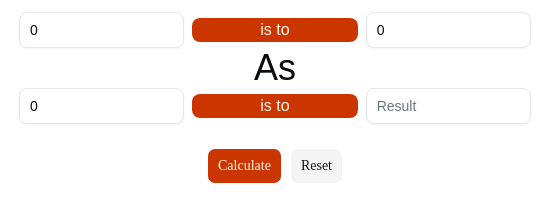
RuleOfThree › reset behavior › clears input and result values
Step 1. Replace the text in the 1st field with placeholder "Value A" with "2" → (102, 30), box [19,12,184,48]
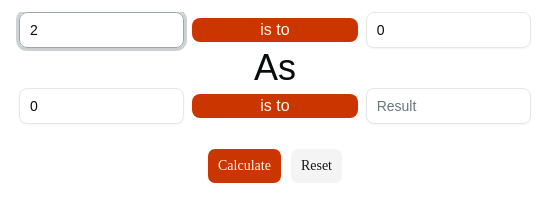
Step 2. Replace the text in the 2nd field with placeholder "Value B" with "4" → (448, 30), box [366,12,531,48]
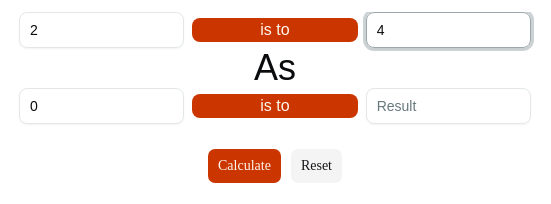
Step 3. Replace the text in the 3rd field with placeholder "Value C" with "3" → (102, 106), box [19,88,184,124]
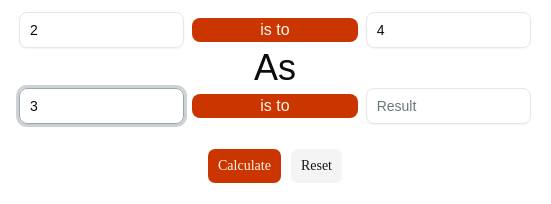
Step 4. Click the button with aria-label "calculate rule of three" → (244, 166), box [207,148,282,184]
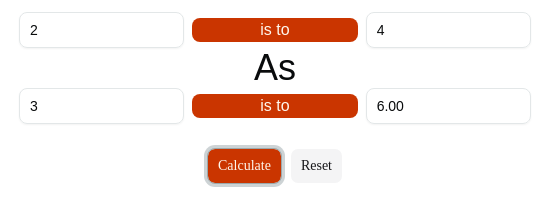
Now the 4th field with placeholder "Result" holds "6.00", box [366,88,531,124]
Step 5. Click the button with aria-label "reset form" → (316, 166), box [290,148,343,184]
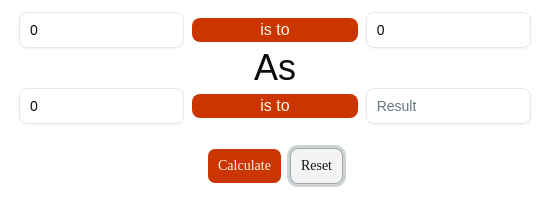
Now the 1st field with placeholder "Value A" holds "0", box [19,12,184,48]
Now the 2nd field with placeholder "Value B" holds "0", box [366,12,531,48]
Now the 3rd field with placeholder "Value C" holds "0", box [19,88,184,124]
